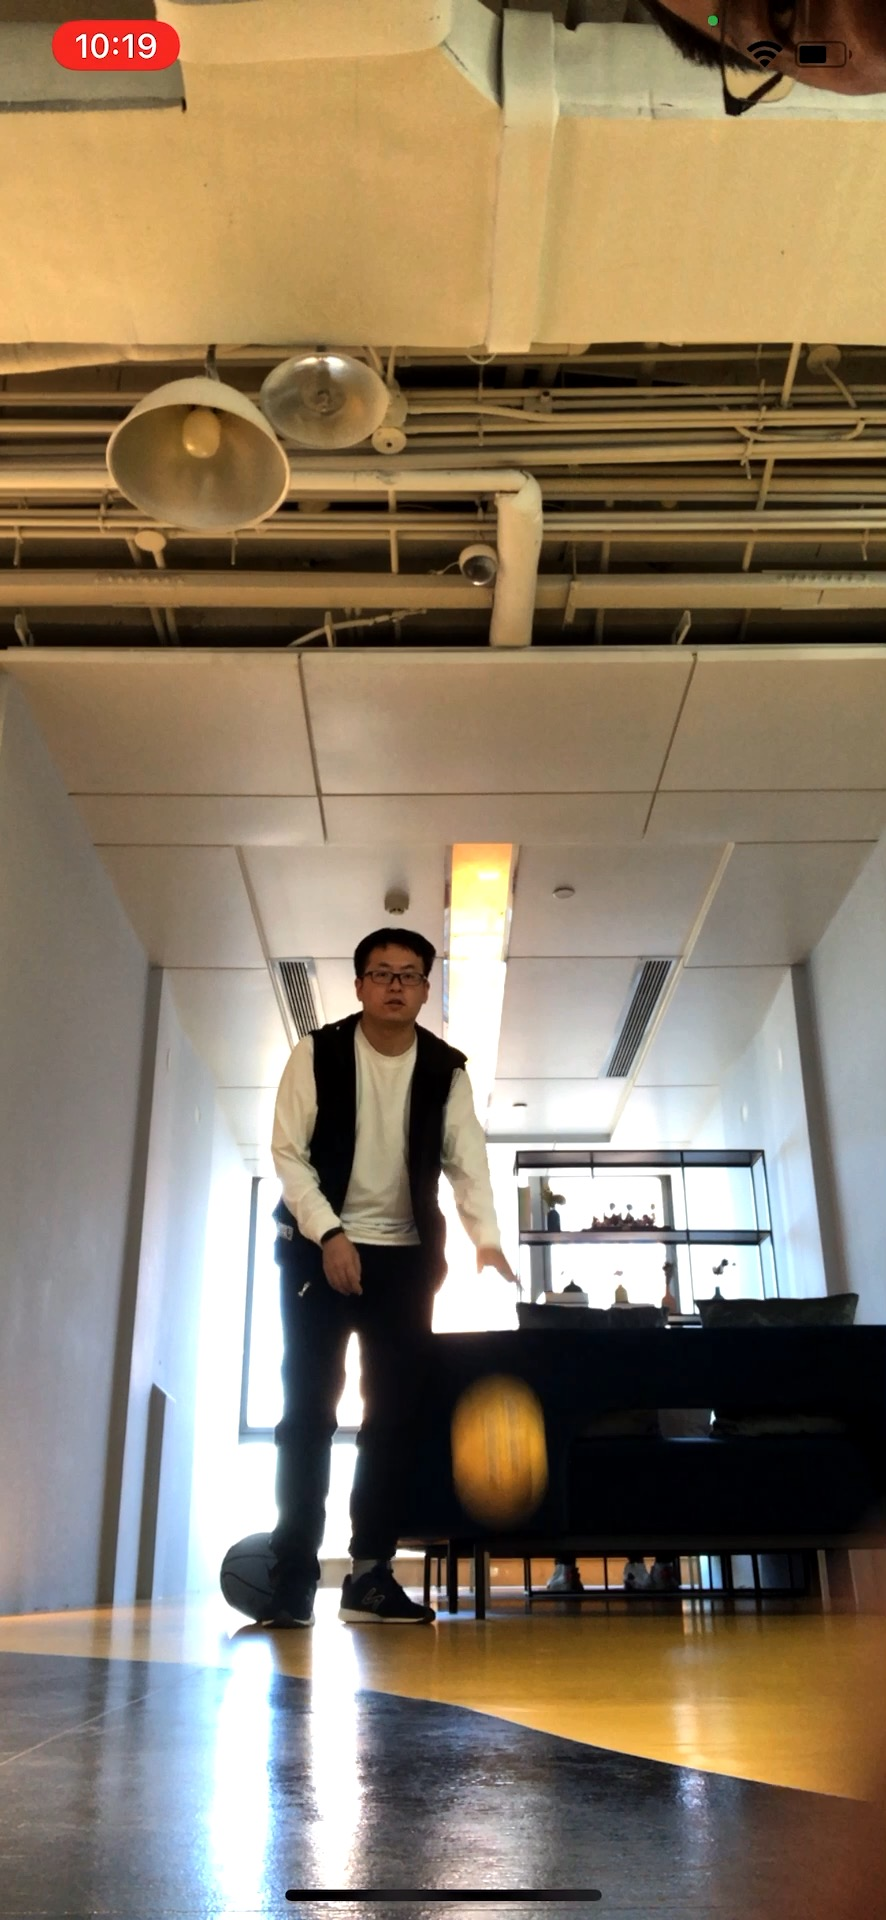ball: (452, 1386, 556, 1516), (225, 1536, 272, 1625)
